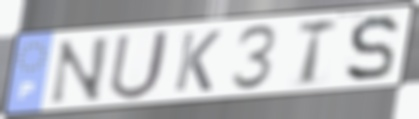3: (230, 23, 280, 92)
K: (171, 28, 224, 94)
N: (47, 34, 112, 107)
S: (343, 13, 401, 85)
T: (294, 16, 341, 88)
U: (106, 28, 174, 103)
